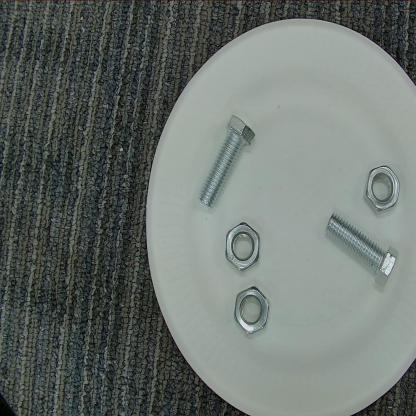FOD: (313, 209, 403, 291), (192, 110, 261, 214), (220, 216, 268, 276), (362, 156, 404, 220), (230, 283, 275, 339)
